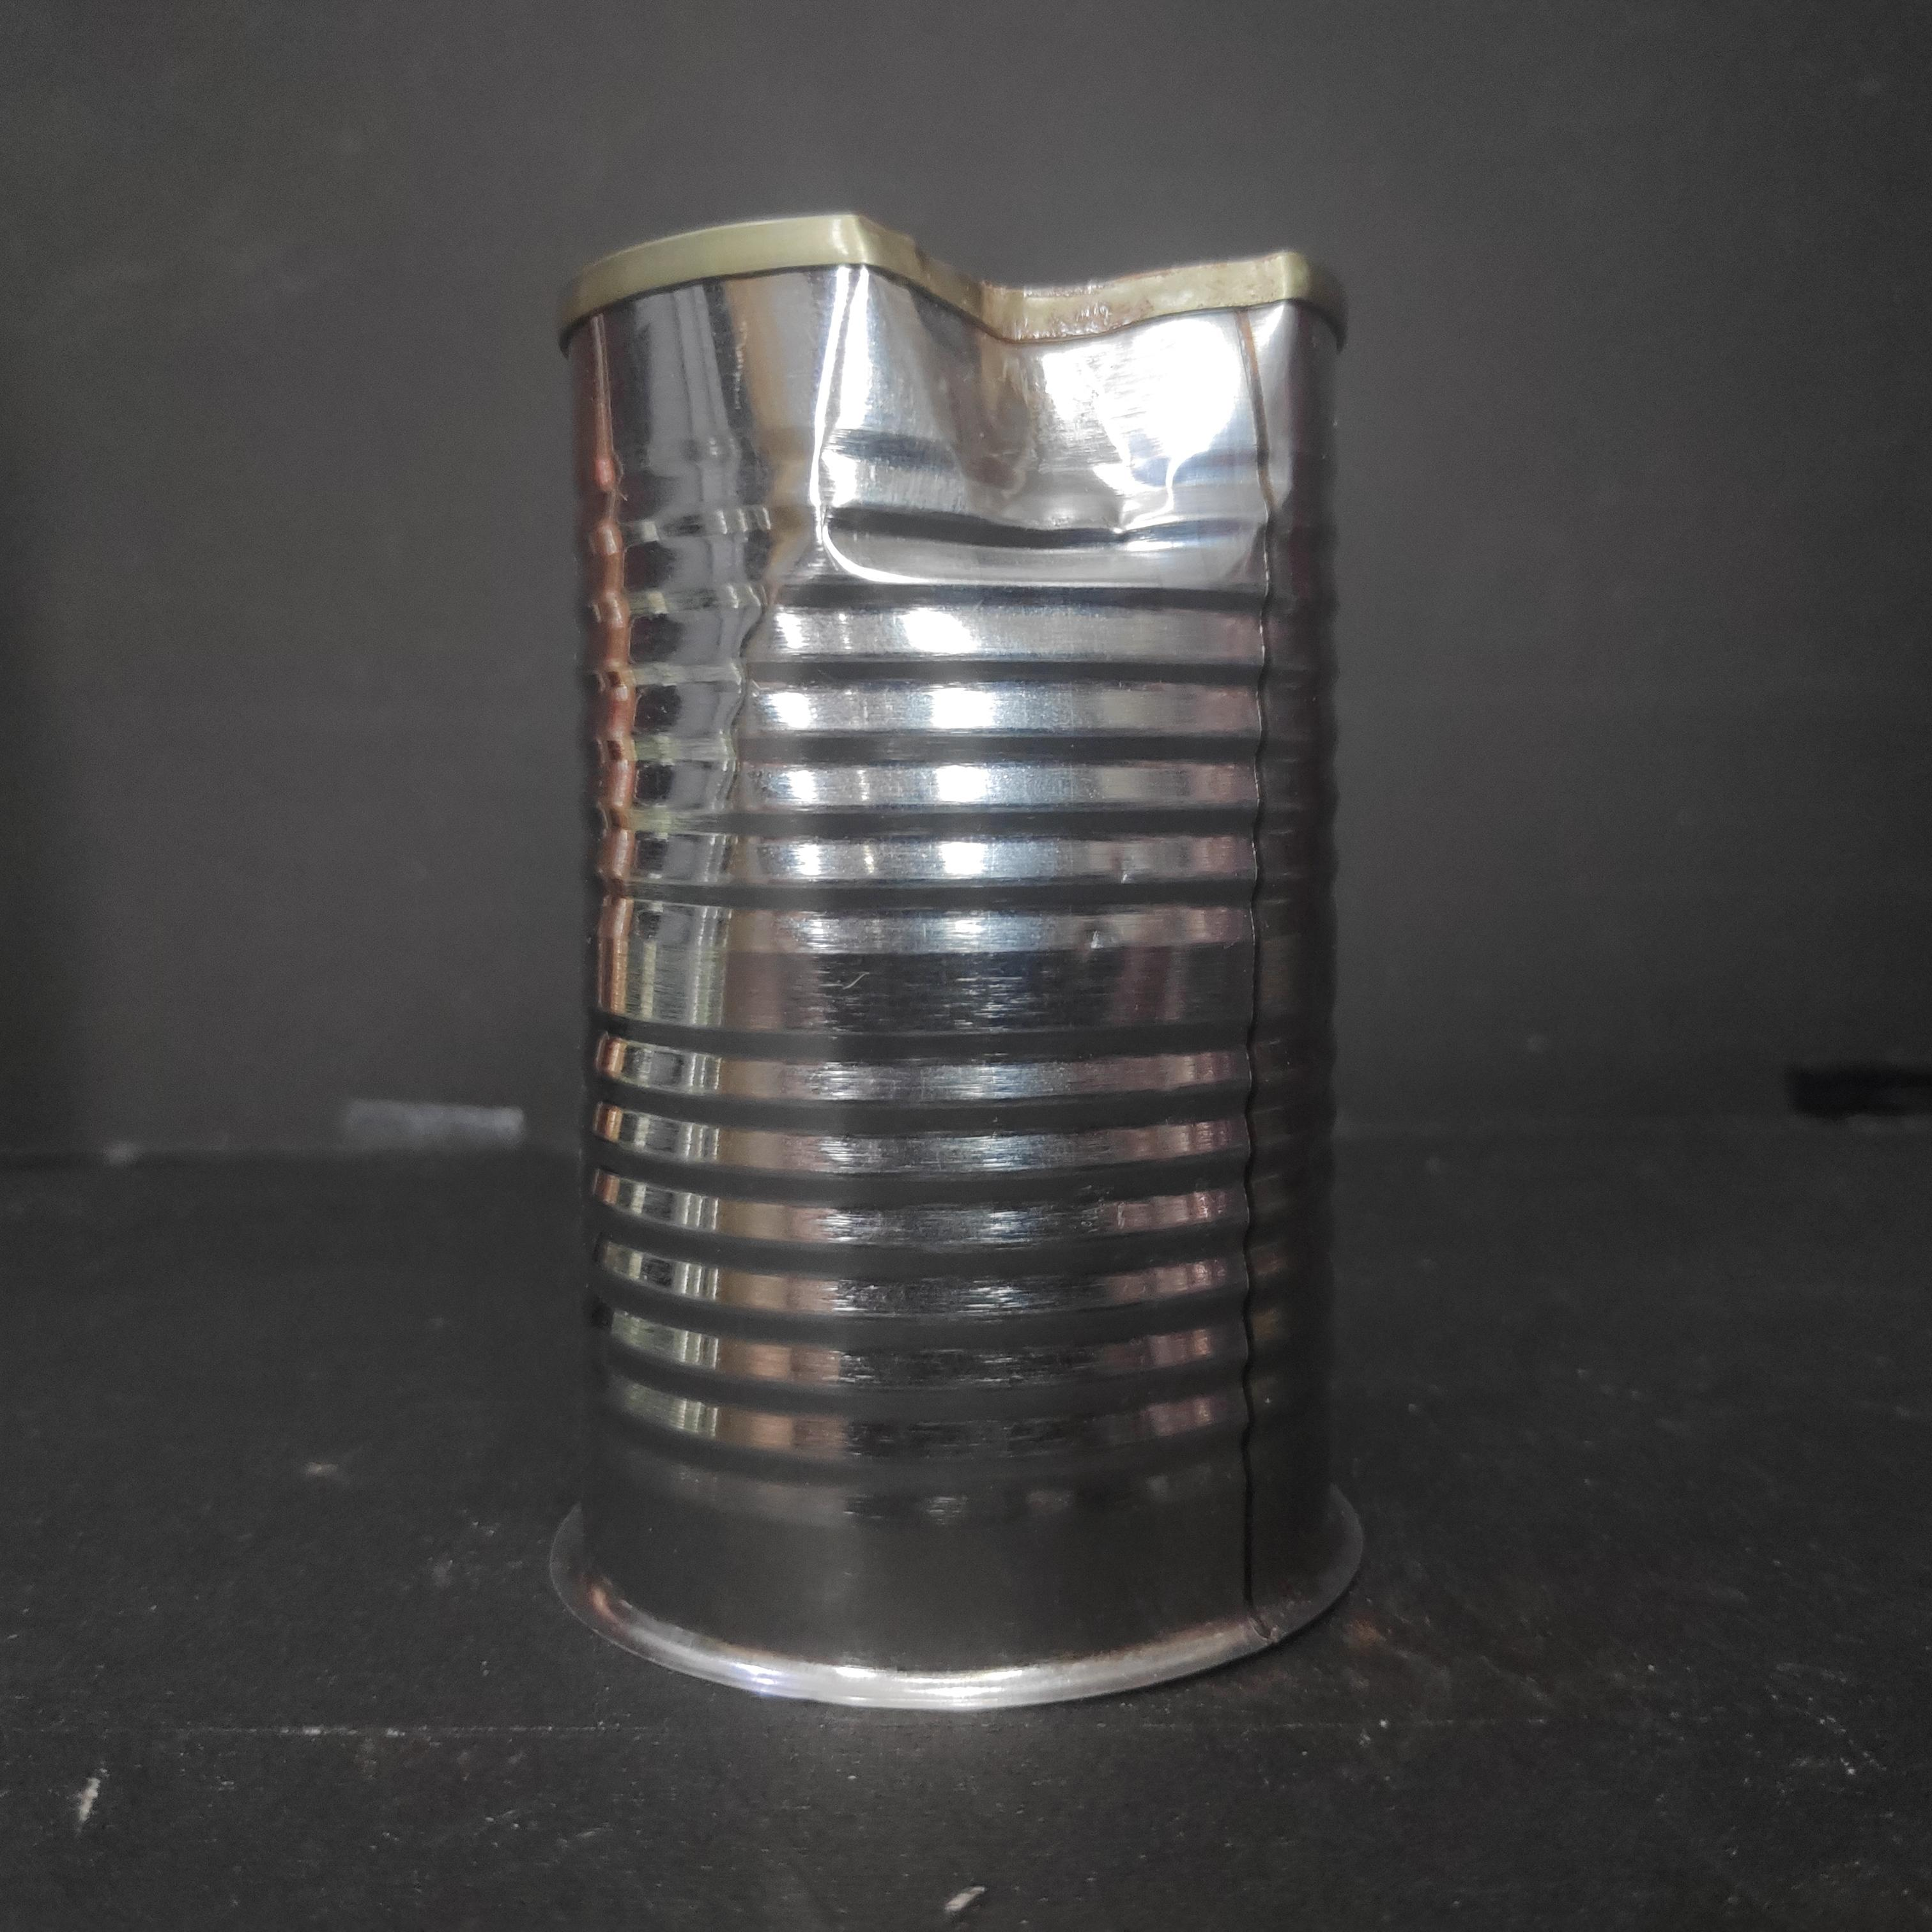Critical Defect: (550, 212, 1368, 1716)
